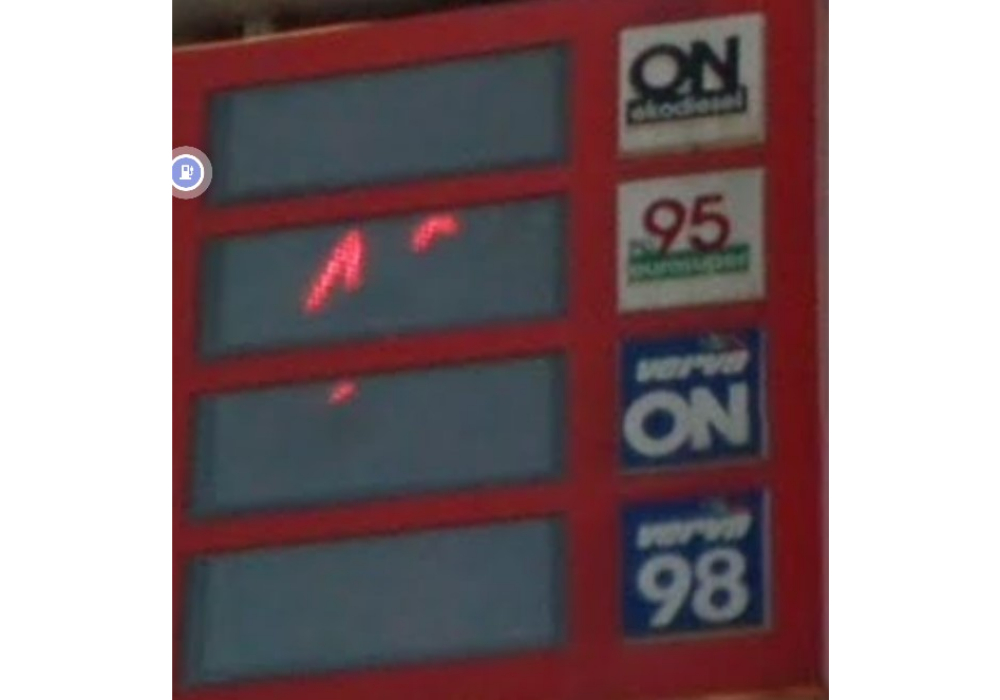ON: (617, 321, 768, 469), (611, 20, 768, 154)
PB95: (612, 169, 765, 314)
PB98: (617, 476, 772, 637)
